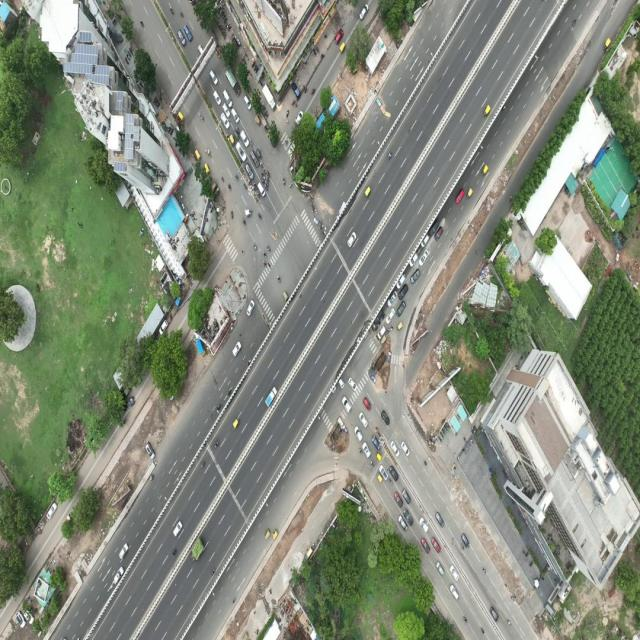3W: (602, 38, 612, 51), (484, 104, 491, 117), (482, 164, 488, 176), (467, 188, 473, 199), (210, 182, 217, 191), (232, 418, 238, 428), (195, 148, 200, 160), (233, 130, 239, 140), (254, 115, 260, 125), (283, 291, 289, 301), (377, 472, 382, 483), (273, 529, 278, 540), (365, 186, 370, 197), (178, 111, 184, 120), (376, 452, 382, 461), (340, 42, 345, 52), (265, 529, 270, 539), (214, 187, 220, 195), (242, 632, 248, 640), (229, 135, 234, 144), (397, 322, 402, 331), (381, 335, 386, 344), (205, 163, 209, 174), (256, 150, 260, 158)
Cars: (223, 89, 233, 108), (236, 142, 246, 161), (418, 249, 428, 267), (123, 395, 135, 410), (403, 509, 414, 525), (15, 611, 26, 627), (385, 307, 395, 324), (429, 220, 439, 236), (410, 268, 420, 284), (388, 290, 398, 306), (490, 606, 500, 622), (449, 584, 459, 600), (449, 565, 459, 581), (390, 441, 400, 457), (362, 442, 372, 458), (220, 112, 230, 128), (250, 151, 260, 167), (114, 567, 124, 583), (119, 543, 129, 559), (173, 520, 183, 536), (47, 502, 57, 518), (462, 532, 471, 549), (342, 396, 351, 413), (245, 163, 254, 180), (360, 4, 370, 19), (396, 301, 406, 316), (145, 444, 155, 459), (24, 609, 34, 624), (335, 28, 344, 44), (399, 284, 408, 300), (432, 537, 441, 553), (419, 517, 428, 533), (398, 516, 407, 532), (389, 465, 398, 481), (354, 426, 363, 442), (347, 232, 356, 248), (240, 130, 249, 146), (246, 300, 255, 316), (232, 341, 241, 357), (159, 319, 168, 335), (434, 226, 444, 240), (396, 274, 406, 288), (375, 308, 384, 323), (421, 538, 430, 553), (402, 489, 411, 504), (379, 465, 388, 480), (371, 435, 380, 450), (359, 412, 368, 427), (231, 108, 240, 123), (456, 188, 464, 204), (436, 512, 444, 528), (394, 492, 402, 508), (295, 110, 303, 126), (184, 25, 192, 41), (178, 30, 186, 46), (377, 325, 386, 339), (401, 442, 410, 456), (382, 410, 391, 424), (363, 397, 372, 411), (409, 253, 418, 266), (348, 378, 357, 391), (292, 83, 300, 97), (210, 71, 218, 85), (213, 91, 221, 105), (223, 102, 230, 118), (258, 182, 265, 197), (421, 235, 429, 248), (437, 562, 444, 576), (244, 96, 251, 110), (338, 376, 344, 389)
LCV: (191, 538, 203, 561), (266, 386, 278, 406)
M2W: (480, 627, 485, 635), (573, 17, 577, 26), (502, 103, 507, 110), (311, 88, 316, 95), (172, 549, 177, 556), (200, 114, 204, 122), (263, 250, 267, 258), (509, 195, 513, 202), (140, 19, 144, 26), (277, 275, 281, 282), (227, 389, 231, 396), (215, 441, 219, 448), (150, 474, 154, 481), (250, 138, 253, 146), (388, 152, 392, 158), (264, 184, 268, 190), (228, 182, 231, 190), (242, 218, 245, 226), (201, 462, 205, 468), (463, 616, 467, 622), (460, 544, 464, 550), (370, 460, 374, 466), (424, 460, 428, 466), (170, 7, 173, 14), (180, 10, 183, 17), (227, 134, 230, 141), (267, 170, 270, 177), (259, 212, 262, 219), (235, 174, 238, 181), (212, 569, 215, 576), (232, 597, 235, 604), (248, 359, 251, 366), (483, 566, 486, 573), (231, 210, 233, 220), (236, 126, 239, 132), (260, 162, 263, 168), (244, 183, 247, 189), (263, 167, 266, 173), (266, 180, 269, 186), (261, 178, 264, 184), (268, 262, 271, 268), (217, 404, 220, 410), (391, 325, 394, 331), (382, 314, 385, 320), (283, 177, 285, 185), (386, 329, 390, 333), (266, 176, 269, 181), (262, 174, 265, 179), (267, 246, 270, 251), (264, 260, 266, 267), (508, 619, 510, 626), (360, 447, 362, 454), (287, 110, 289, 116), (254, 244, 256, 250), (390, 478, 392, 484), (379, 321, 381, 326), (376, 327, 378, 331)
MAV: (226, 68, 242, 97), (262, 83, 276, 111)
